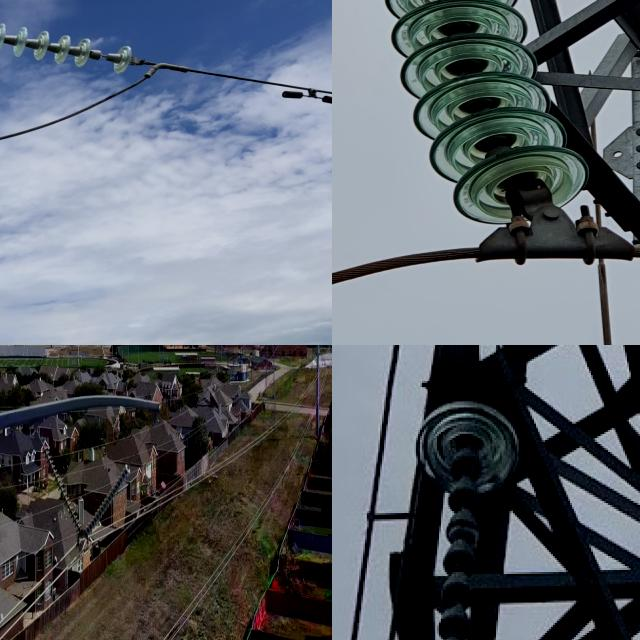杆塔: (332, 345, 640, 640)
正常电缆: (0, 67, 177, 152), (162, 56, 332, 105)
正常绝缘子: (351, 0, 585, 233), (393, 386, 516, 640), (0, 14, 158, 91), (35, 433, 93, 550), (74, 453, 139, 554)
绝缘子破损: (440, 581, 472, 615), (446, 519, 481, 550), (442, 550, 477, 578), (448, 458, 487, 482), (447, 490, 481, 516), (436, 617, 470, 640), (96, 48, 112, 62)
